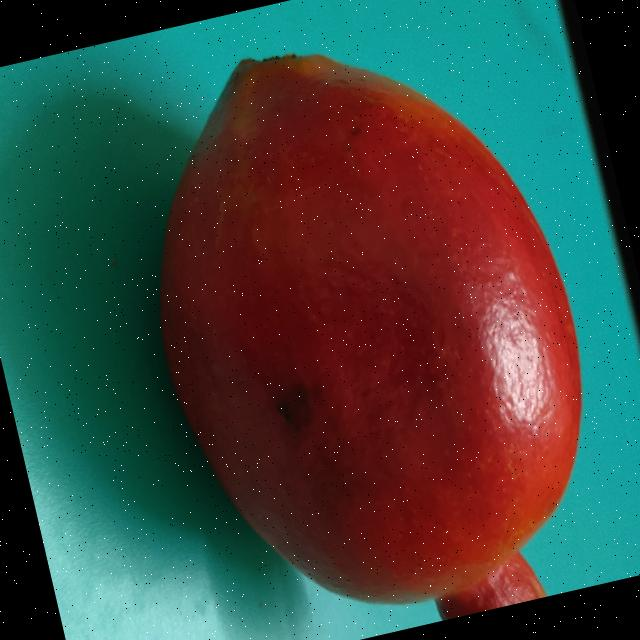Good_Pomegranate-50-60-days: (159, 51, 586, 619)
